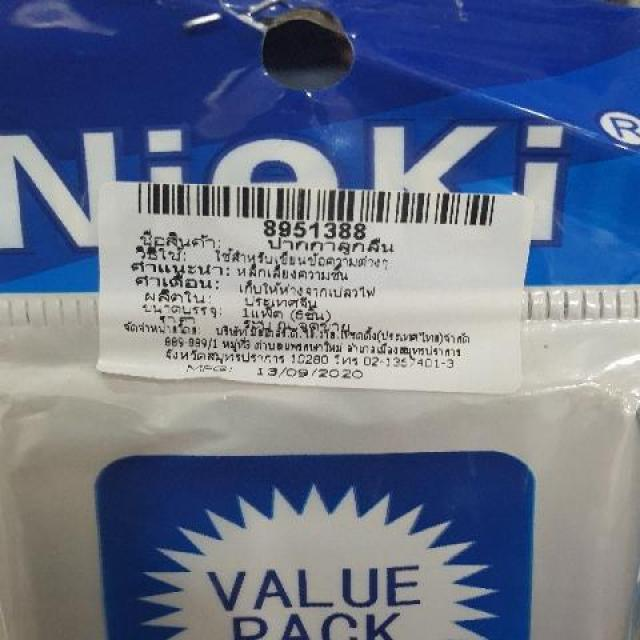Barcode: (128, 178, 507, 241)
